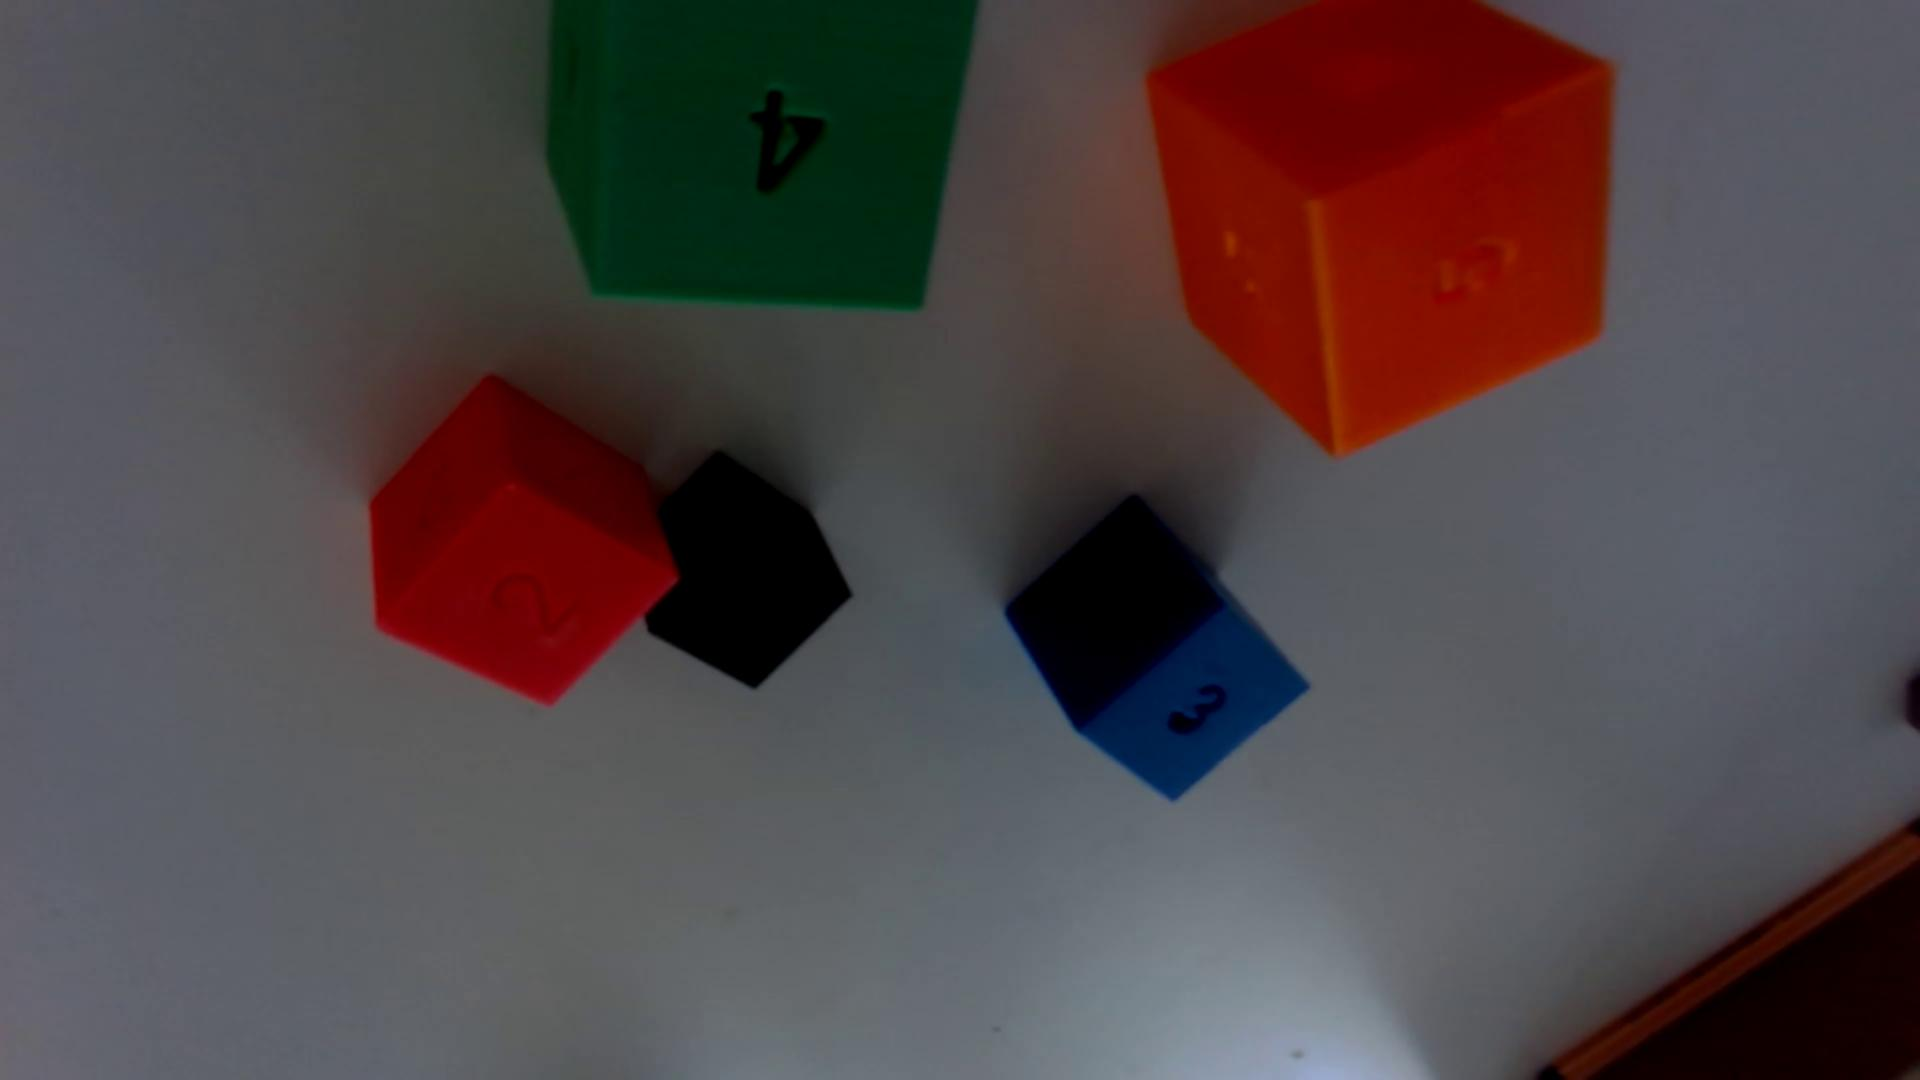black: (646, 454, 851, 687)
blue: (1007, 497, 1308, 799)
green: (545, 0, 977, 310)
orange: (1147, 0, 1615, 454)
red: (368, 377, 678, 703)
